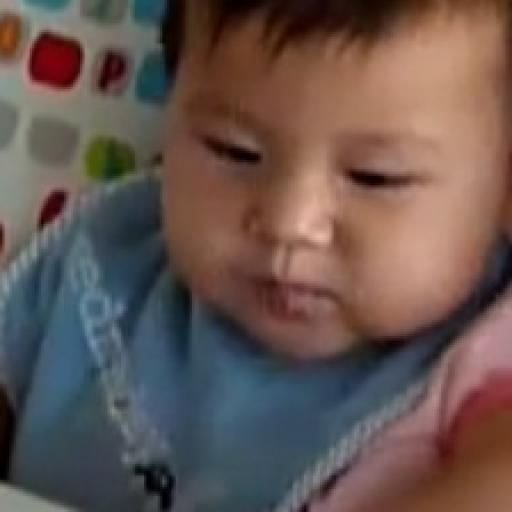Autism: (167, 6, 512, 430), (167, 5, 511, 425)
